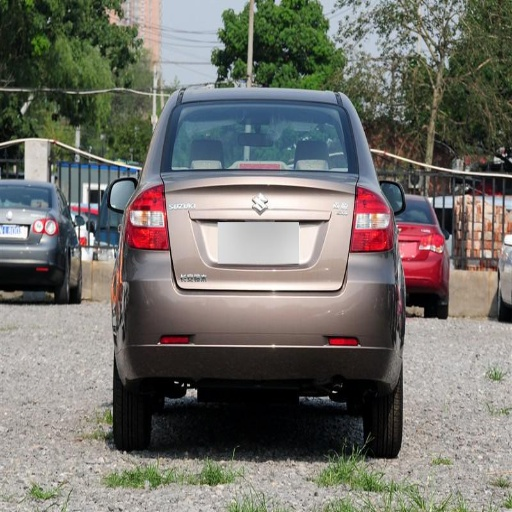back_bumper: (112, 249, 400, 393)
